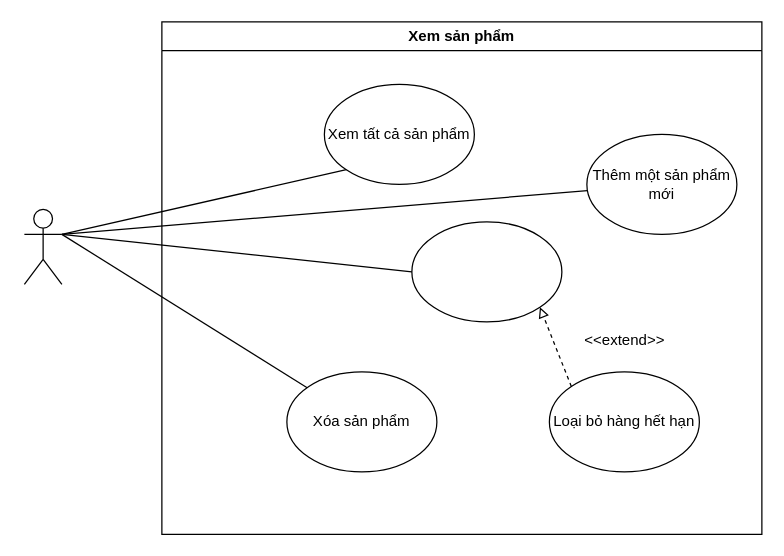
This 784x556 diagram has some shape labels left out. Each missing label, with the box of its shape:
Admin: (23, 208, 62, 284)
Xem sản phẩm hết hạn: (411, 221, 562, 322)
